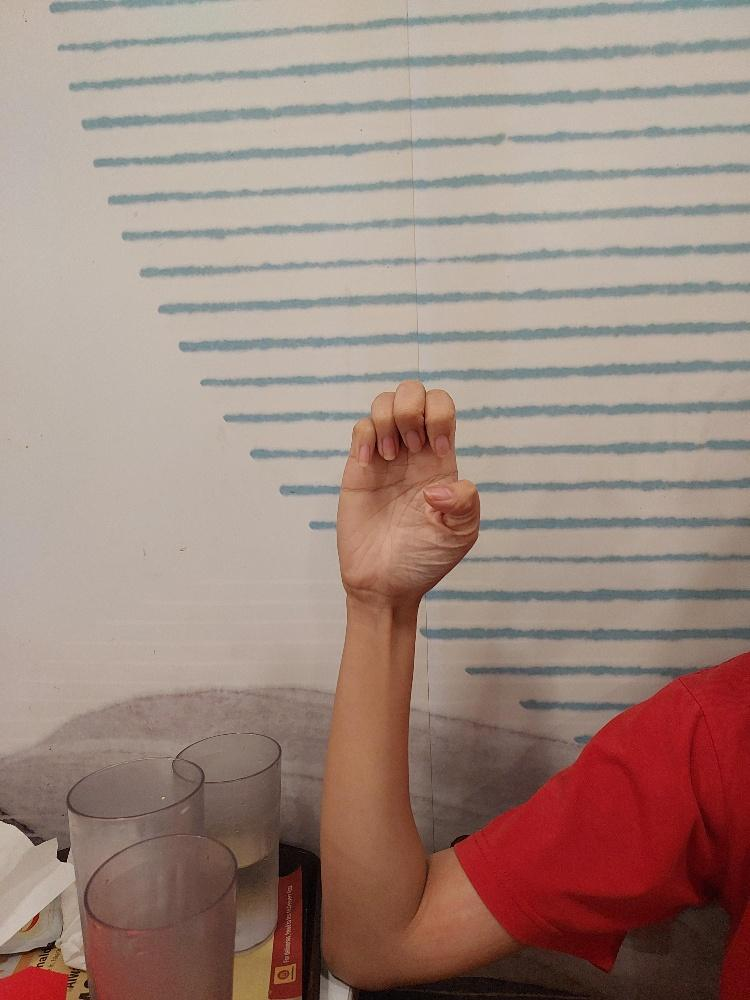e: (333, 376, 481, 604)
